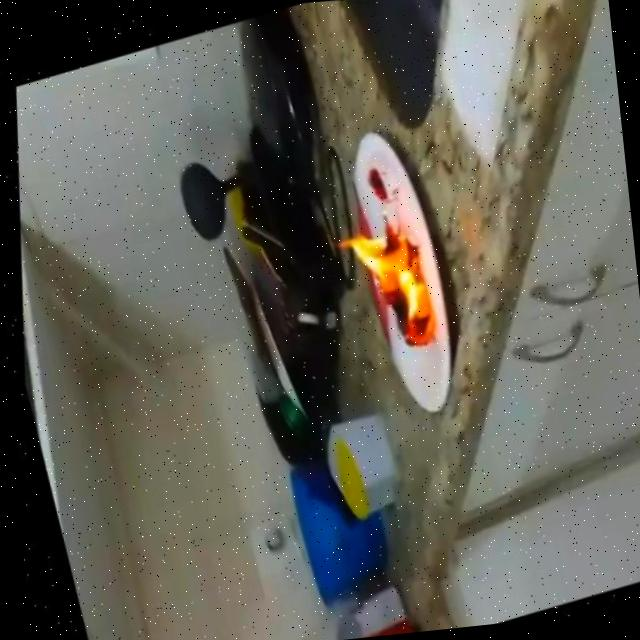fire: (311, 204, 449, 372)
